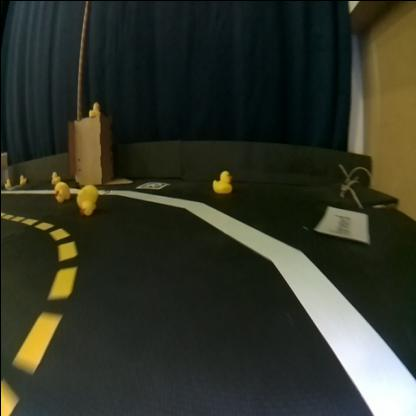Duckie: (74, 184, 94, 214), (210, 170, 232, 192), (52, 181, 68, 201), (87, 101, 98, 115), (50, 170, 59, 183), (3, 176, 10, 188), (18, 173, 24, 181)
QR code: (136, 180, 167, 188)
